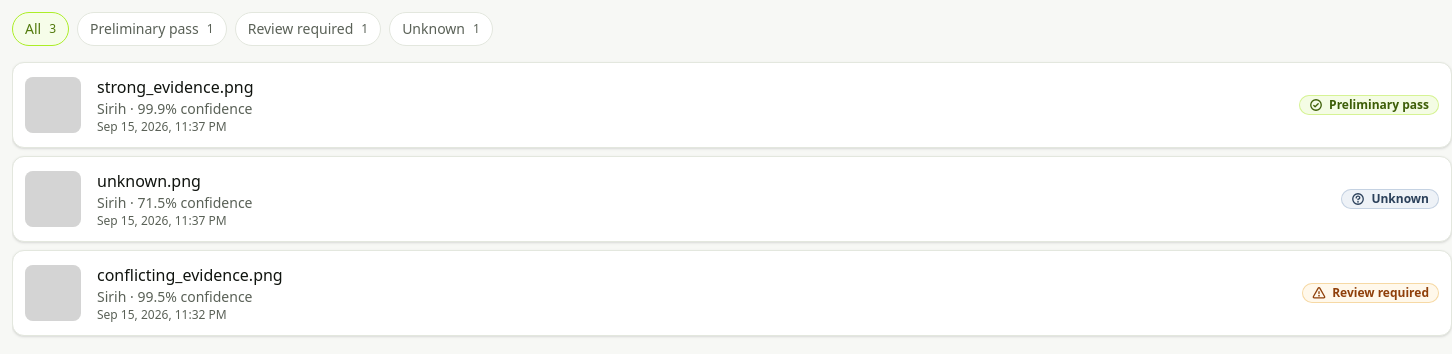
Test: HistoryView › filters the list by decision
Expected: the link "strong_evidence.png" is shown, [12, 62, 1451, 148]
Click the button "Preliminary pass 1".
click(152, 29)  # box [77, 12, 227, 46]
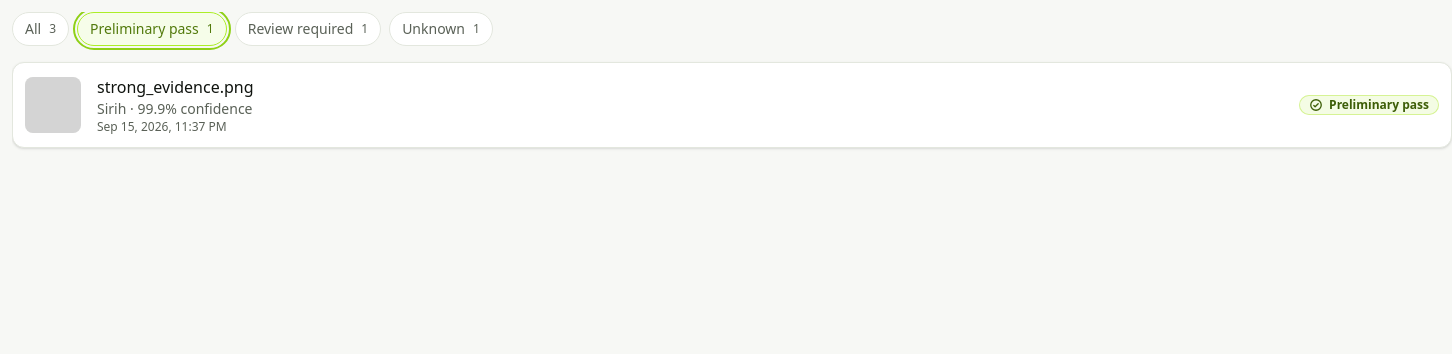
Result: the number of links ".png" is 1 at [12, 62, 1451, 148]
